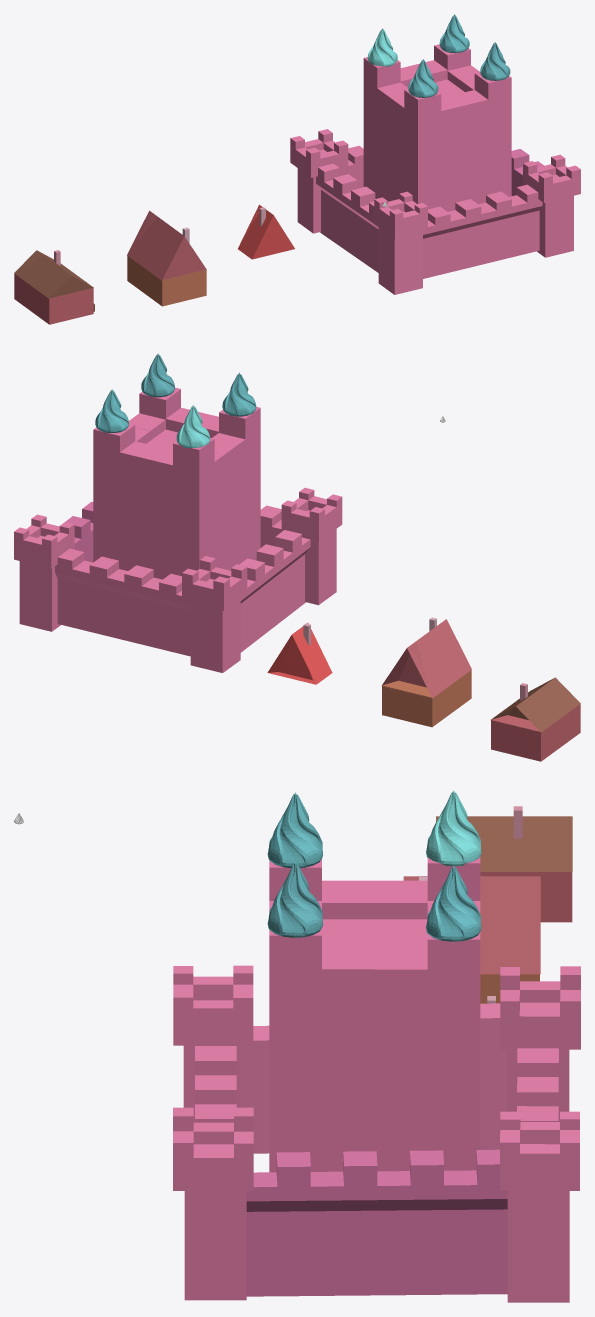
File: Castelo.fbx
3 views of the same model, one above another, from view 1: azimuth 30°, elevation 25°; view 2: azimuth 150°, elevation 25°; view 3: azimuth 270°, elevation 25° (orthographic). The views are drawn at different scales.
Visible parts, largest first — view 1: Cube.001, Cube, Cube.003, Cube.004, Cube.005, Cylinder.001, Cube.010, Cube.008, Cylinder.002, Cylinder, Cylinder.007, Cylinder.008 (+3 smaller); view 2: Cube.001, Cube.005, Cube.004, Cube.006, Cube.003, Cylinder.001, Cube.008, Cube.010, Cylinder.002, Cylinder, Cube.007, Cylinder.007 (+4 smaller); view 3: Cube.001, Cube.007, Cube, Cube.006, Cube.005, Cube.003, Cube.004, Cylinder.001, Cylinder.002, Cylinder.009, Cylinder.008, Cylinder.007 (+3 smaller).
Part boxes in pixels (<box>): Cube.001: <box>363,44,511,211</box>; Cube: <box>423,154,580,278</box>; Cube.003: <box>374,191,427,294</box>; Cube.004: <box>316,163,378,272</box>; Cube.005: <box>290,129,363,233</box>; Cylinder.001: <box>127,210,206,280</box>; Cube.010: <box>14,274,93,324</box>; Cube.008: <box>127,256,206,306</box>; Cylinder.002: <box>14,250,93,298</box>; Cylinder: <box>238,204,294,259</box>; Cylinder.007: <box>408,59,438,97</box>; Cylinder.008: <box>480,42,510,80</box>; Cube.001: <box>93,387,260,579</box>; Cube.005: <box>55,548,247,672</box>; Cube.004: <box>240,530,310,652</box>; Cube.006: <box>14,514,74,631</box>; Cube.003: <box>281,487,342,605</box>; Cylinder.001: <box>381,619,471,698</box>; Cube.008: <box>382,670,471,727</box>; Cube.010: <box>491,704,580,761</box>; Cylinder.002: <box>490,677,580,732</box>; Cylinder: <box>267,623,332,684</box>; Cube.007: <box>65,501,93,562</box>; Cylinder.007: <box>222,372,256,416</box>; Cube.001: <box>269,856,480,1172</box>; Cube.007: <box>246,1149,507,1296</box>; Cube: <box>173,1046,253,1300</box>; Cube.006: <box>500,1111,579,1302</box>; Cube.005: <box>500,966,580,1121</box>; Cube.003: <box>173,965,253,1122</box>; Cube.004: <box>245,1003,506,1153</box>; Cylinder.001: <box>403,876,540,974</box>; Cylinder.002: <box>436,816,572,871</box>; Cylinder.009: <box>426,866,481,941</box>; Cylinder.008: <box>267,862,323,937</box>; Cylinder.007: <box>267,792,322,867</box>.
Bounding box in the file's own units: 20424 × 8923 × 11076.
